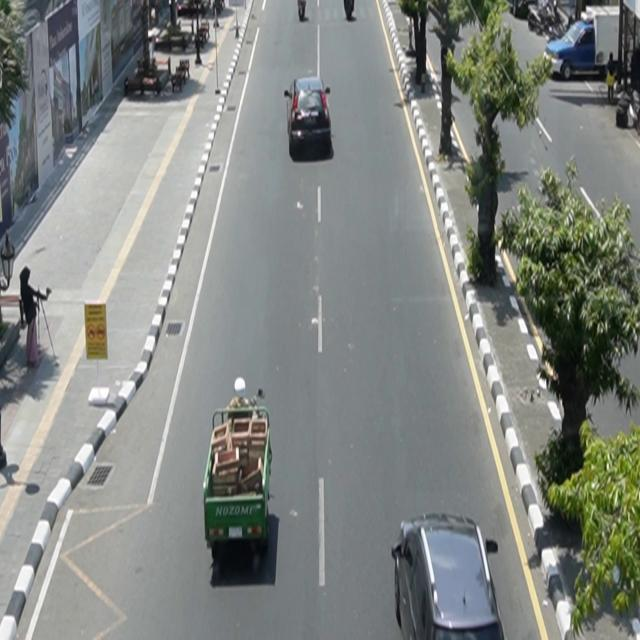car: (393, 513, 507, 640), (285, 76, 333, 158)
truck: (203, 378, 273, 568)
